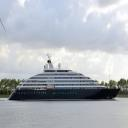cruises: (8, 54, 123, 103)
